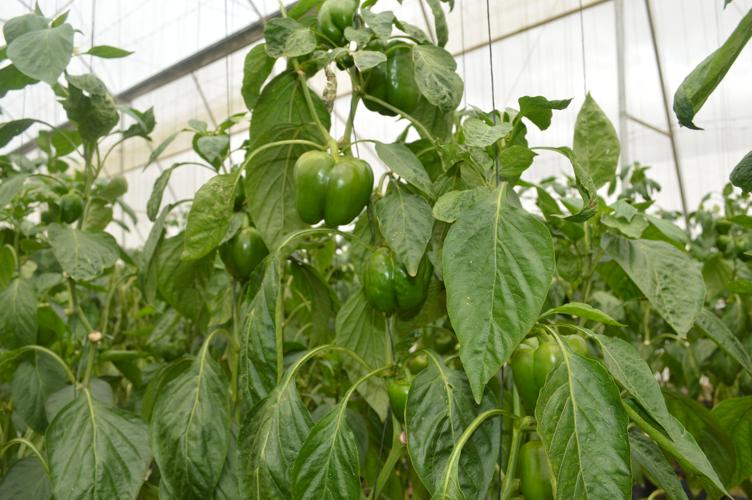BellPepper: (288, 151, 373, 231), (509, 335, 587, 409), (357, 246, 429, 319), (355, 44, 418, 118), (216, 226, 264, 276), (513, 439, 553, 498), (316, 1, 351, 43), (385, 372, 413, 421)
